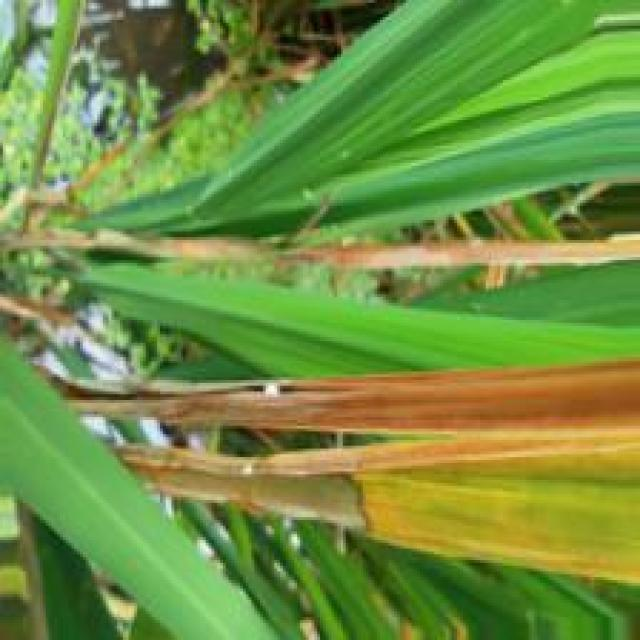Leaf_Scald: (121, 358, 640, 533)
